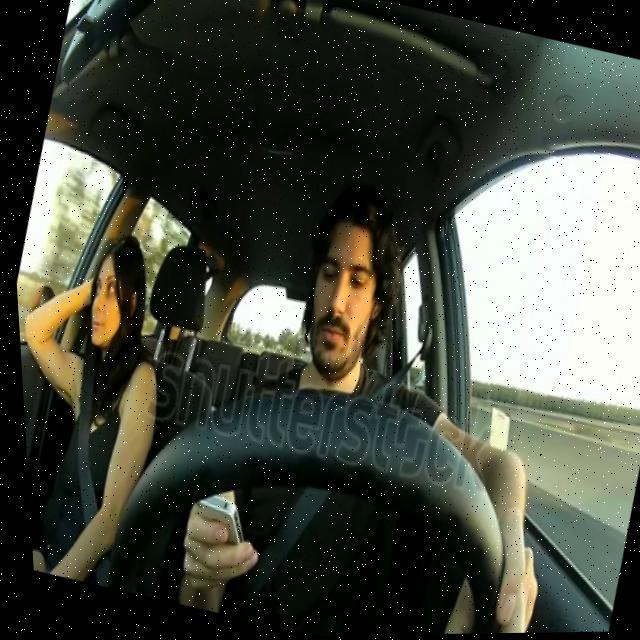PhoneCall: (175, 480, 260, 570)
